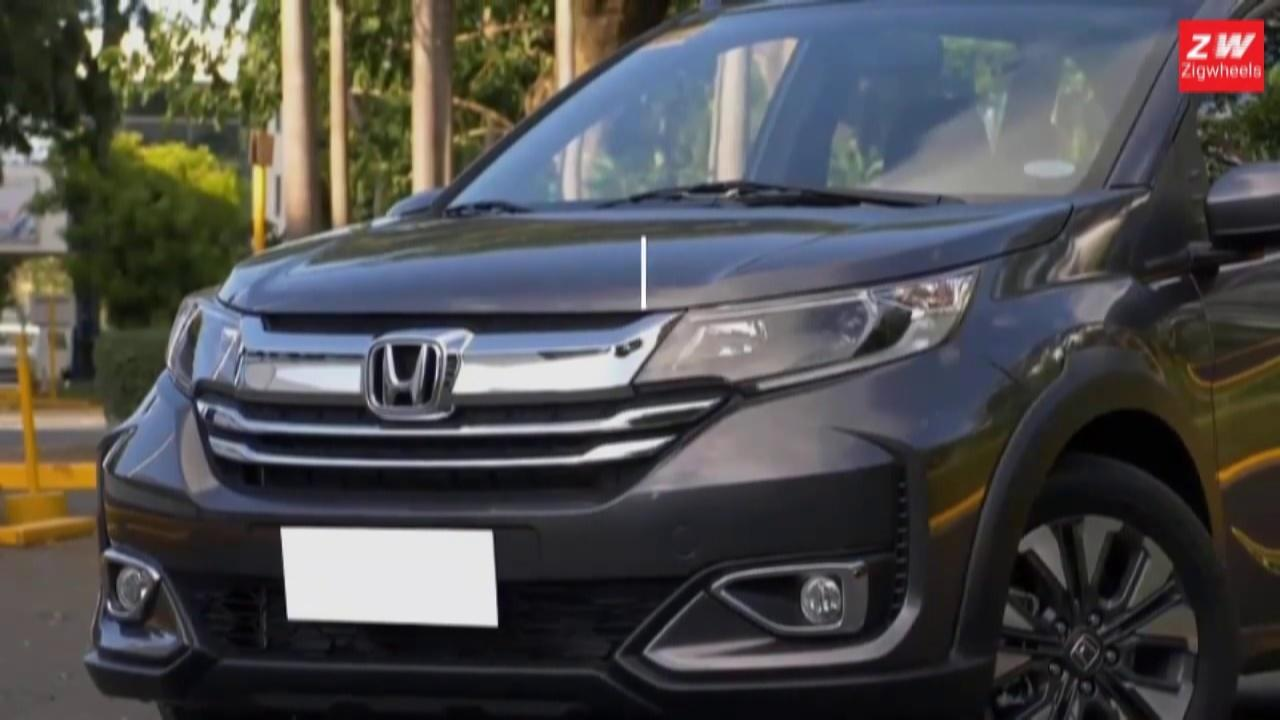Car hood: (216, 199, 1077, 320)
Fender - -F-L-: (961, 178, 1227, 558)
Front bumper: (87, 347, 1032, 718)
Headlight - -L-: (630, 258, 986, 397)
Headlight - -R-: (162, 286, 247, 404)
Side mirror - -L-: (1179, 153, 1280, 276)
